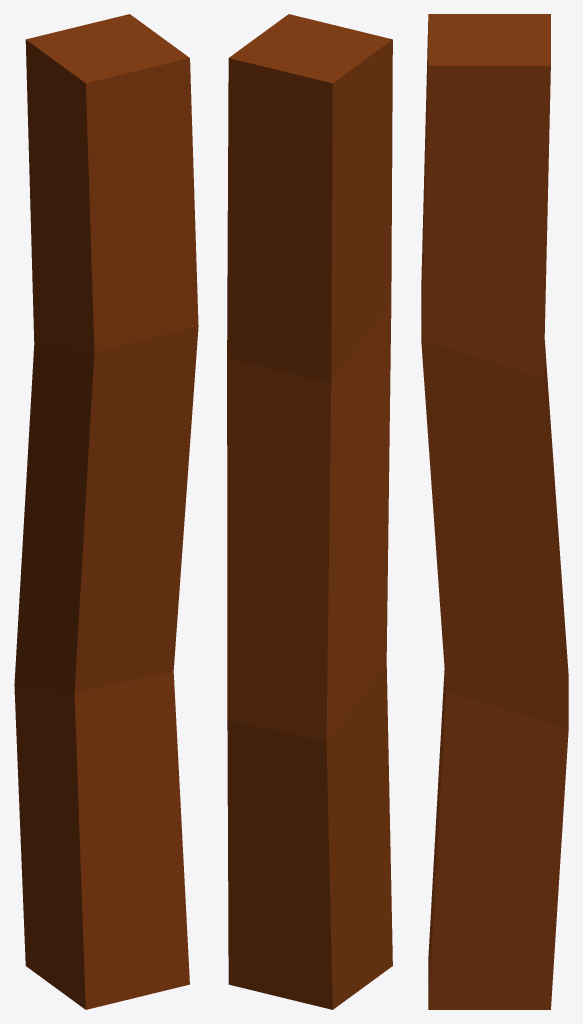
The model's file is mod_fence_post.fbx.
The picture shows the model from 3 angles, left to right: view 1: azimuth 30°, elevation 25°; view 2: azimuth 150°, elevation 25°; view 3: azimuth 270°, elevation 25°; orthographic projection.
Visible parts, largest first — view 1: Cube.027; view 2: Cube.027; view 3: Cube.027.
Boxes of the visible parts, left/top/right/bottom form: Cube.027: left=14, top=14, right=198, bottom=1009; Cube.027: left=227, top=14, right=392, bottom=1009; Cube.027: left=421, top=14, right=568, bottom=1009.
Size of the model in its own units: 10.73 by 85 by 12.03.
